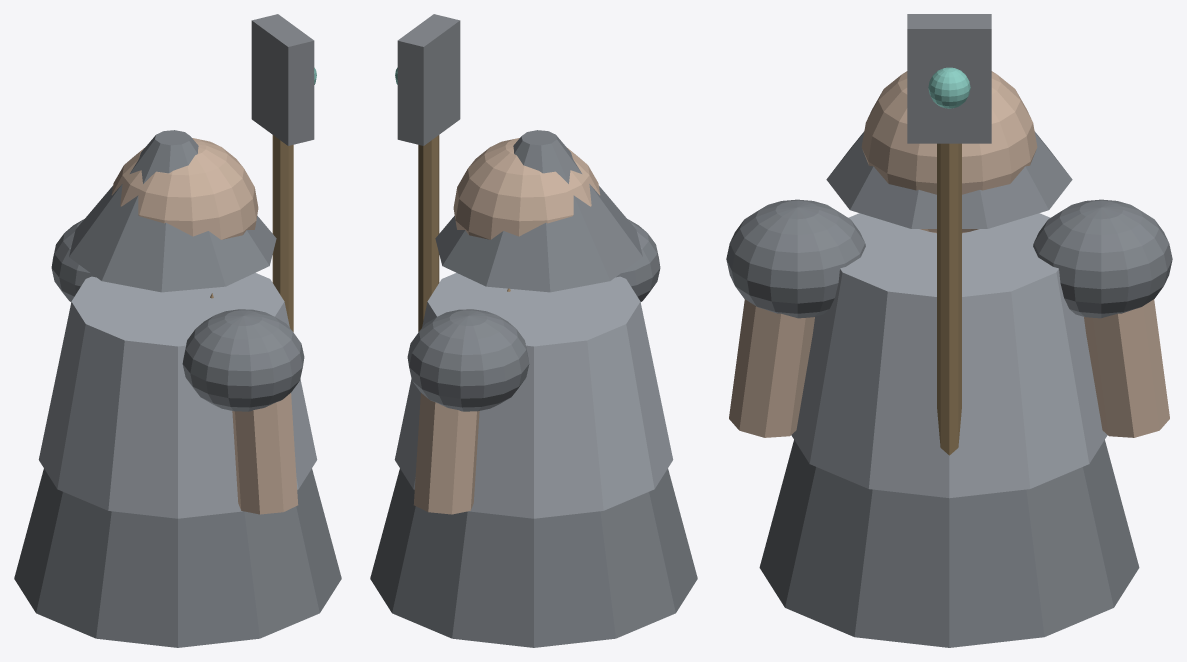
File: hero_brakkar_5.glb
3 views of the same model, side by side, from view 1: azimuth 30°, elevation 25°; view 2: azimuth 150°, elevation 25°; view 3: azimuth 270°, elevation 25° (orthographic). The views are drawn at different scales.
Parts seen in each view (by area): view 1: figurka; view 2: figurka; view 3: figurka.
Part boxes in pixels (<box>): figurka: <box>14,14,341,647</box>; figurka: <box>370,14,697,647</box>; figurka: <box>726,14,1172,647</box>.
Bounding box in the file's own units: 0.54 × 0.95 × 0.6345.
